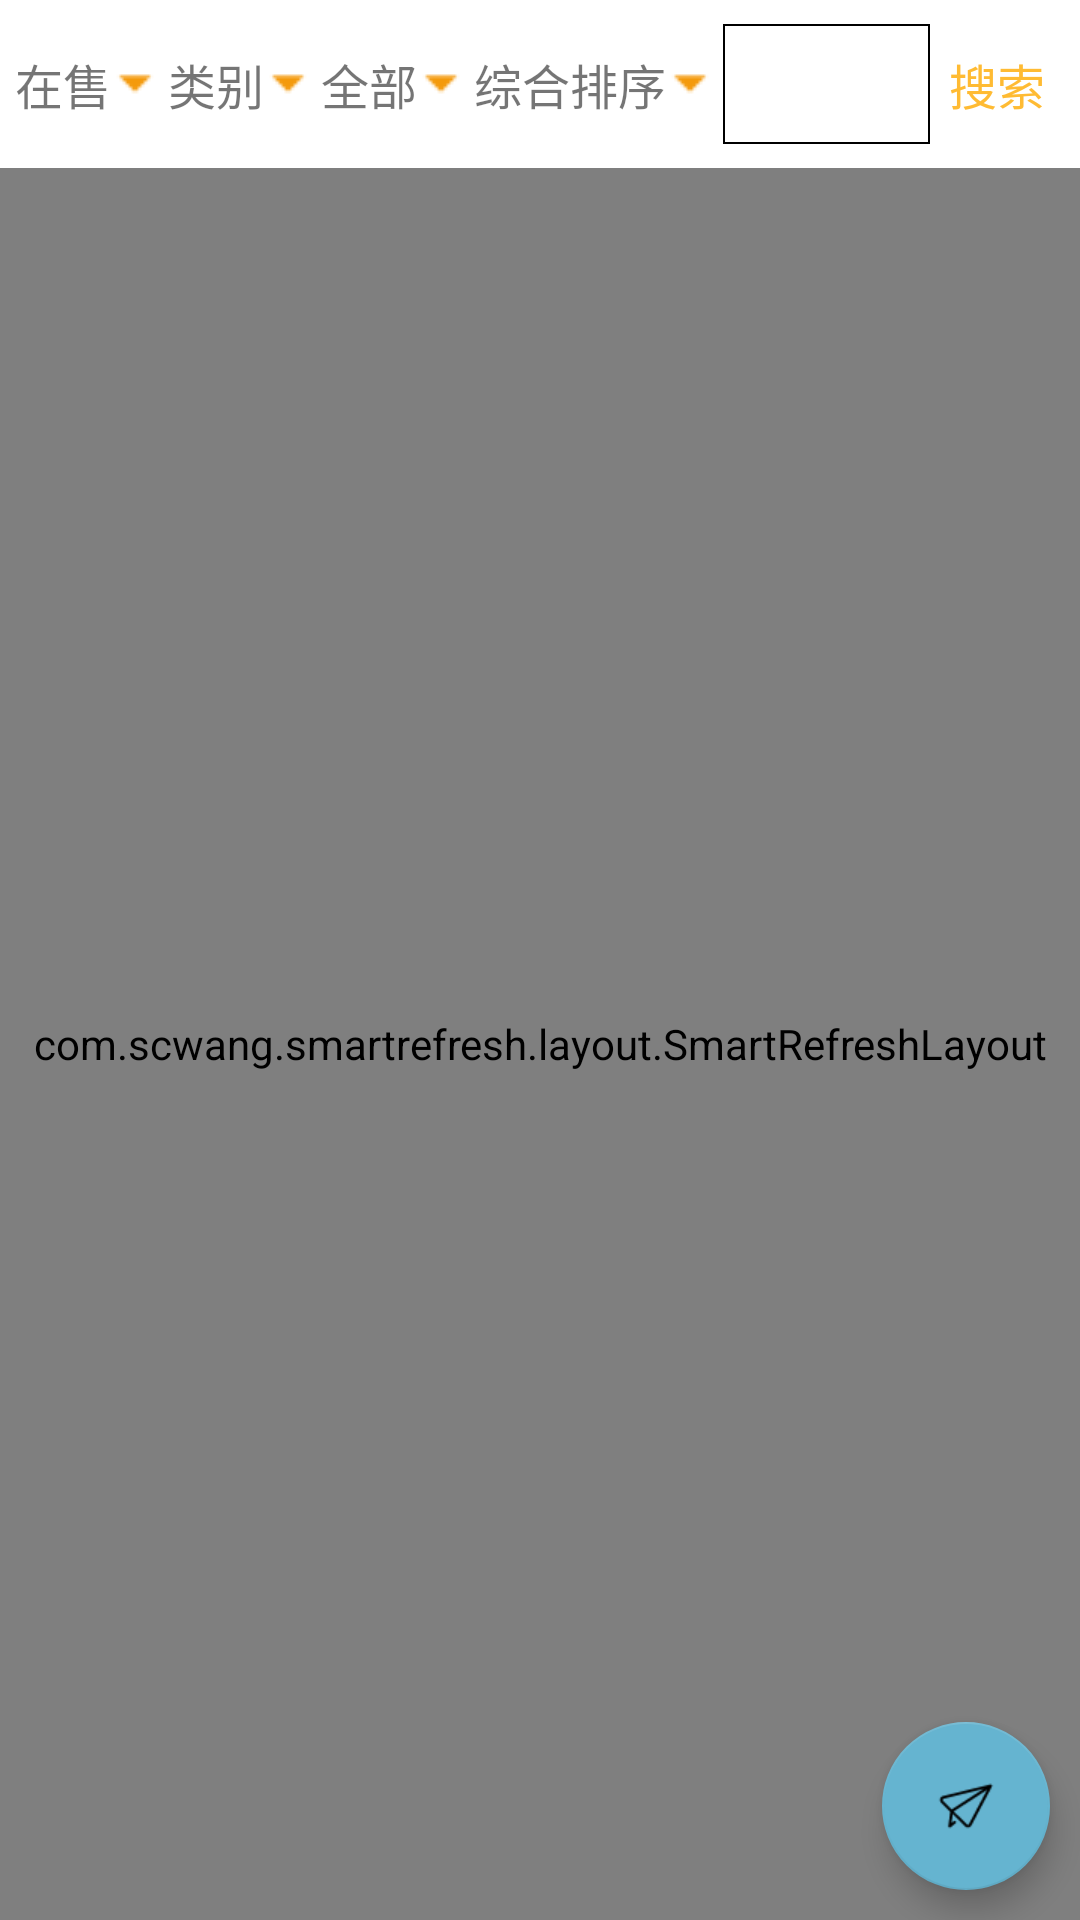

Point at icon controls on the screen. Image size 1080px×1920px, points as [x,y].
post: [966,1806]
